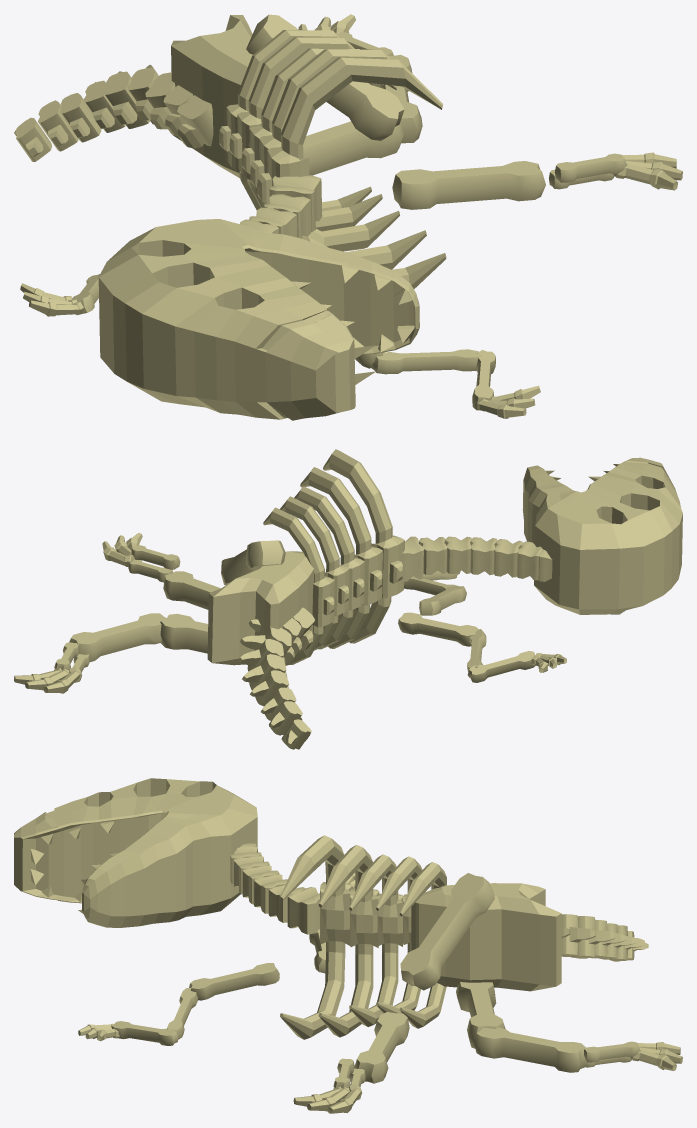
File: skeleton.fbx
3 renders of one model, top to bottom at view 1: azimuth 30°, elevation 25°; view 2: azimuth 150°, elevation 25°; view 3: azimuth 270°, elevation 25°, orthographic. The views are drawn at different scales.
Parts seen in each view (by area): view 1: polySurface47, polySurface3, polySurface4, polySurface13, polySurface34, polySurface33, polySurface26, polySurface21, polySurface46, polySurface35, polySurface27, polySurface45 (+4 smaller); view 2: polySurface47, polySurface3, polySurface13, polySurface4, polySurface27, polySurface33, polySurface26, polySurface17, polySurface34, polySurface19, polySurface45, polySurface44 (+10 smaller); view 3: polySurface47, polySurface3, polySurface13, polySurface33, polySurface27, polySurface4, polySurface34, polySurface26, polySurface20, polySurface46, polySurface22, polySurface28 (+6 smaller).
Boxes of the visible parts, bbox=[...] form: polySurface47: bbox=[98, 219, 419, 420]; polySurface3: bbox=[219, 30, 446, 288]; polySurface4: bbox=[14, 65, 213, 161]; polySurface13: bbox=[171, 15, 252, 178]; polySurface34: bbox=[392, 161, 545, 209]; polySurface33: bbox=[246, 14, 404, 140]; polySurface26: bbox=[303, 121, 404, 175]; polySurface21: bbox=[371, 349, 481, 374]; polySurface46: bbox=[269, 175, 322, 231]; polySurface35: bbox=[554, 153, 626, 182]; polySurface27: bbox=[372, 54, 422, 143]; polySurface45: bbox=[264, 194, 311, 238]; polySurface47: bbox=[522, 457, 682, 614]; polySurface3: bbox=[263, 449, 404, 664]; polySurface13: bbox=[207, 551, 313, 665]; polySurface4: bbox=[238, 607, 314, 749]; polySurface27: bbox=[69, 613, 166, 661]; polySurface33: bbox=[221, 540, 285, 585]; polySurface26: bbox=[160, 613, 208, 653]; polySurface17: bbox=[398, 612, 478, 646]; polySurface34: bbox=[163, 571, 220, 609]; polySurface19: bbox=[467, 651, 535, 682]; polySurface45: bbox=[418, 537, 447, 574]; polySurface44: bbox=[445, 536, 471, 573]; polySurface47: bbox=[14, 778, 257, 927]; polySurface3: bbox=[280, 835, 446, 1039]; polySurface13: bbox=[411, 883, 561, 991]; polySurface33: bbox=[400, 873, 494, 990]; polySurface27: bbox=[474, 1027, 586, 1072]; polySurface4: bbox=[561, 914, 648, 961]; polySurface34: bbox=[354, 1012, 409, 1083]; polySurface26: bbox=[456, 982, 505, 1048]; polySurface20: bbox=[189, 963, 279, 1000]; polySurface46: bbox=[287, 887, 319, 934]; polySurface22: bbox=[111, 1021, 178, 1045]; polySurface28: bbox=[584, 1041, 640, 1062].
Bounding box in the file's own units: 6.51 × 2.41 × 7.38.
